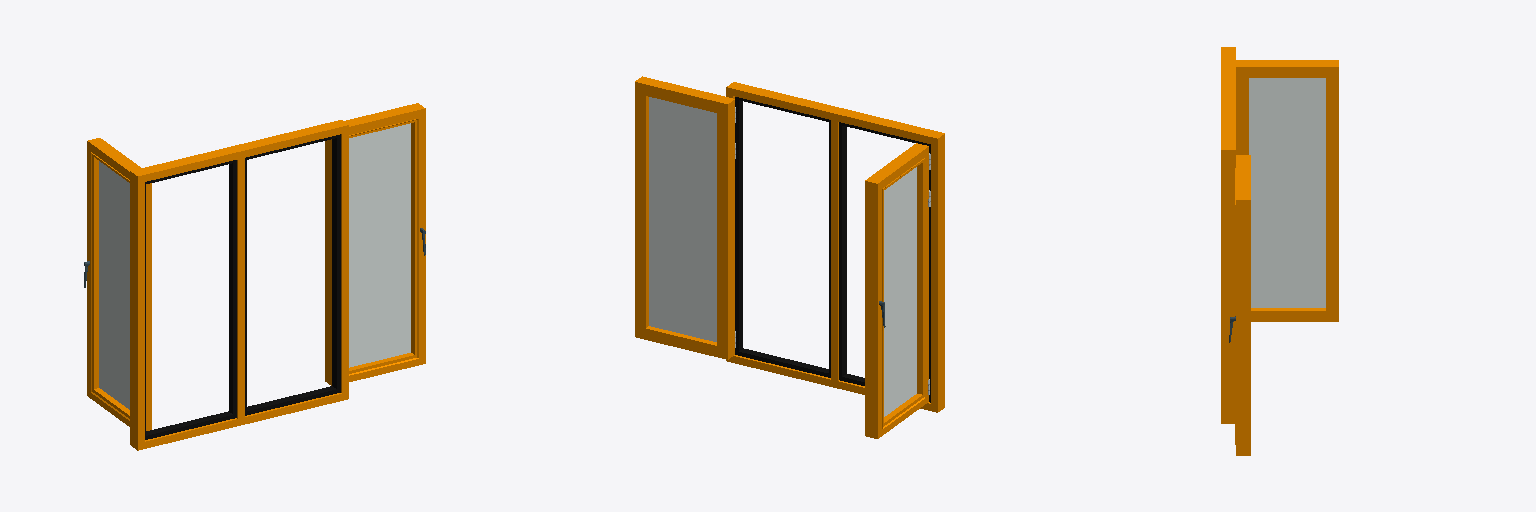
3 views of the same model, side by side, from view 1: azimuth 30°, elevation 25°; view 2: azimuth 150°, elevation 25°; view 3: azimuth 270°, elevation 25° (orthographic).
Visible parts, largest first — view 1: group[number redacted], group[number redacted], group[number redacted], group[number redacted], group[number redacted], group[number redacted], group[number redacted], group[number redacted], group[number redacted], group[number redacted]; view 2: group[number redacted], group[number redacted], group[number redacted], group[number redacted], group[number redacted], group[number redacted], group[number redacted], group[number redacted], group[number redacted]; view 3: group[number redacted], group[number redacted], group[number redacted], group[number redacted].
Part boxes in pixels (x1,y1,x2,y2): group[number redacted]: (325,103,425,385); group[number redacted]: (84,138,151,430); group[number redacted]: (130,171,144,450); group[number redacted]: (132,120,348,182); group[number redacted]: (332,134,340,392); group[number redacted]: (341,126,348,393); group[number redacted]: (237,158,244,420); group[number redacted]: (229,163,236,414); group[number redacted]: (145,392,348,448); group[number redacted]: (146,386,338,439); group[number redacted]: (635,76,734,359); group[number redacted]: (865,143,928,438); group[number redacted]: (931,133,944,412); group[number redacted]: (726,82,943,143); group[number redacted]: (831,116,838,383); group[number redacted]: (839,122,846,378); group[number redacted]: (735,97,742,355); group[number redacted]: (733,355,930,410); group[number redacted]: (739,348,930,402); group[number redacted]: (1236,60,1338,321); group[number redacted]: (1229,155,1250,455); group[number redacted]: (1221,151,1235,423); group[number redacted]: (1221,47,1235,150).
Bounding box in the file's own units: 3.66 × 3.24 × 1.27.